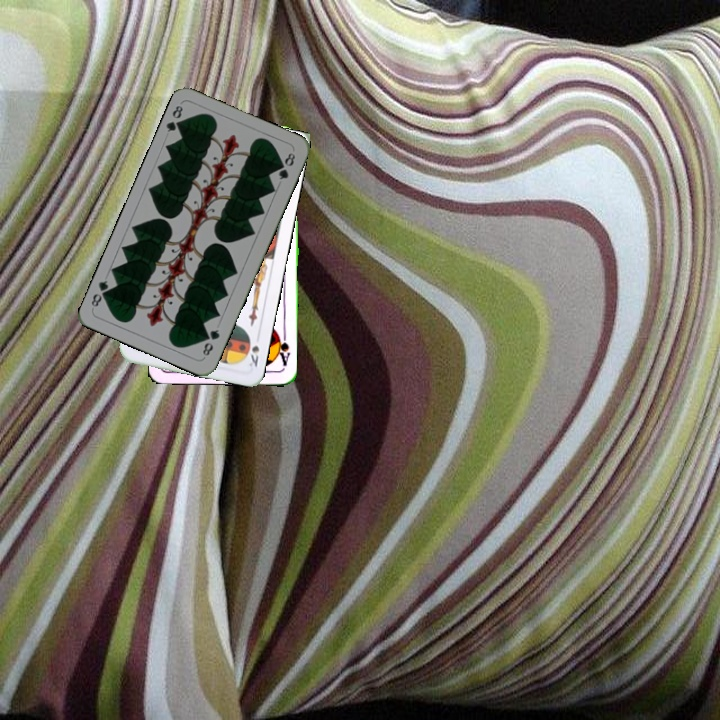G8: (162, 101, 187, 135), (198, 325, 222, 359)
SA: (273, 329, 292, 368)
SK: (245, 341, 262, 369)
